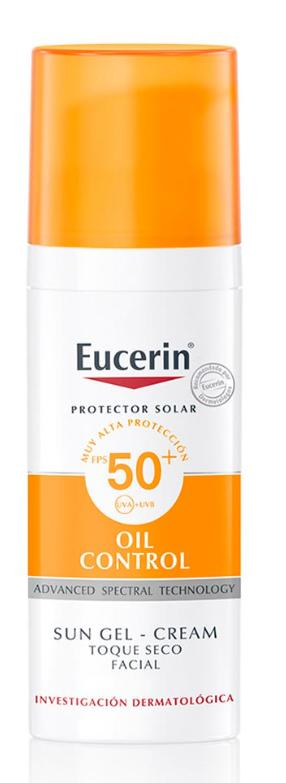brand: (69, 338, 191, 373)
extra_detail: (107, 449, 177, 497)
product_name: (67, 397, 198, 420)
